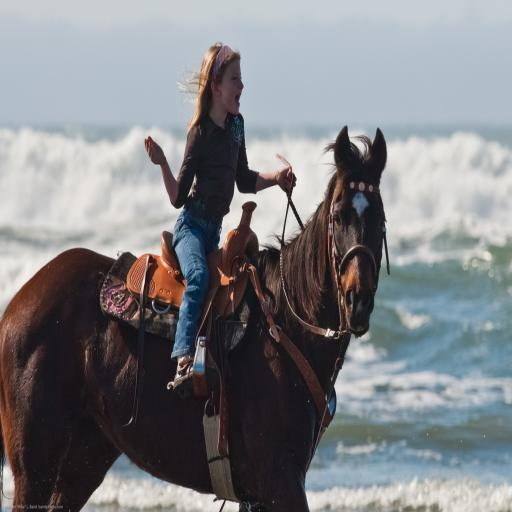horse: (0, 126, 388, 512)
